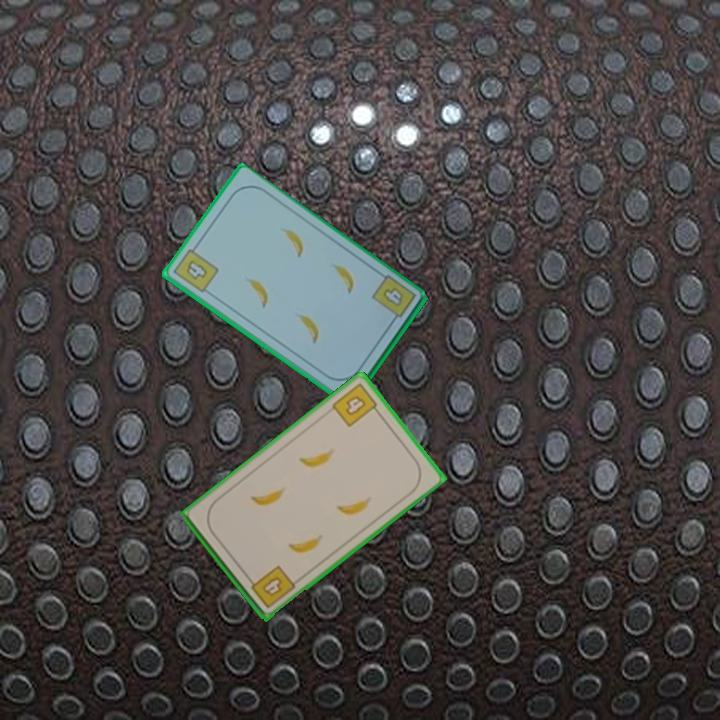4b: (170, 241, 222, 296), (368, 272, 419, 327), (328, 379, 383, 430), (244, 562, 298, 611)
